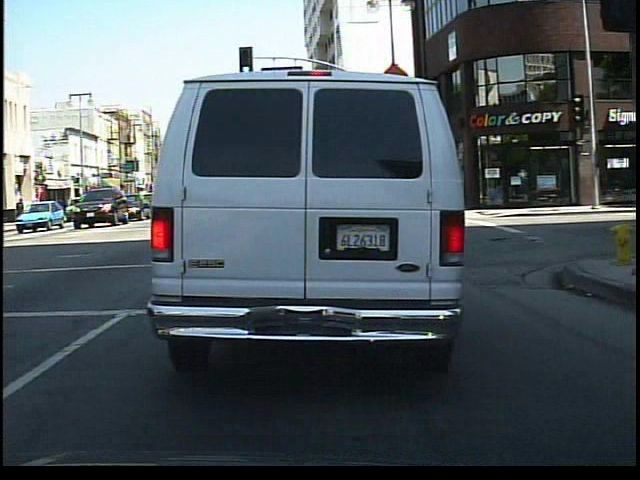person: (12, 195, 29, 227)
